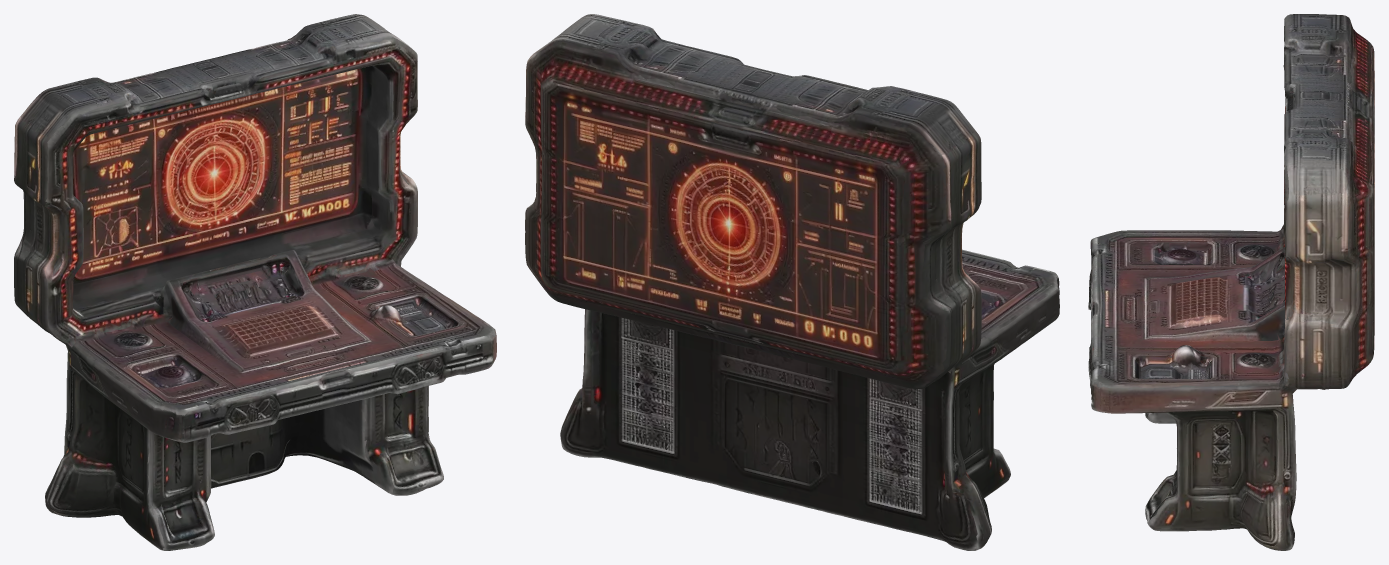
The model's file is computer.glb.
The picture shows the model from 3 angles, left to right: view 1: azimuth 30°, elevation 25°; view 2: azimuth 150°, elevation 25°; view 3: azimuth 270°, elevation 25°; orthographic projection. The views are drawn at different scales.
Visible parts, largest first — view 1: Object_5; view 2: Object_5; view 3: Object_5.
Part boxes in pixels (x1,y1,x2,y2): Object_5: (14, 14, 496, 550); Object_5: (525, 14, 1059, 550); Object_5: (1088, 14, 1374, 550).
Bounding box in the file's own units: 0.8514 × 0.8499 × 0.5804.
Materials: 1 (1 with a texture image).
